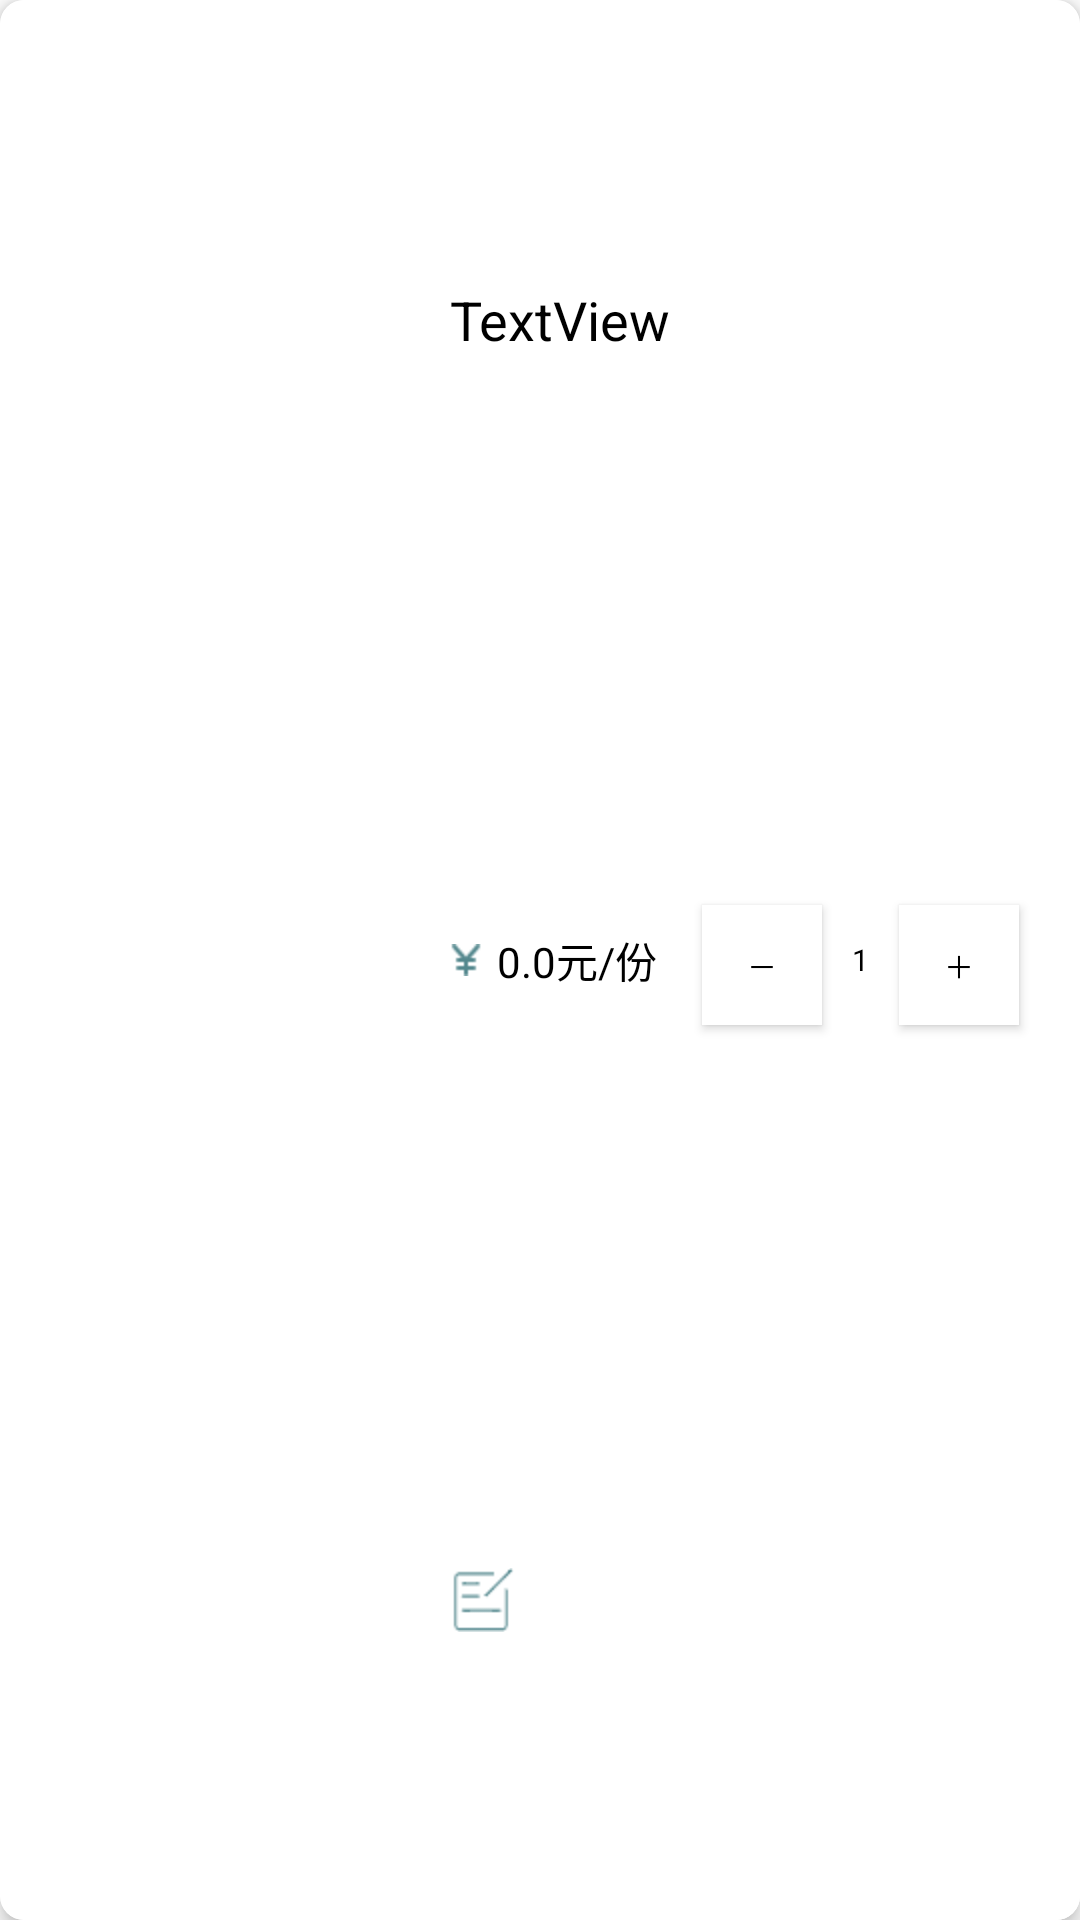

Named icons in this screenshot (1080w x 1920h) and their bounding boxes, [left=x1, top=y1, right=x2, bottom=y2]:
renminbi: [left=451, top=944, right=481, bottom=976]
